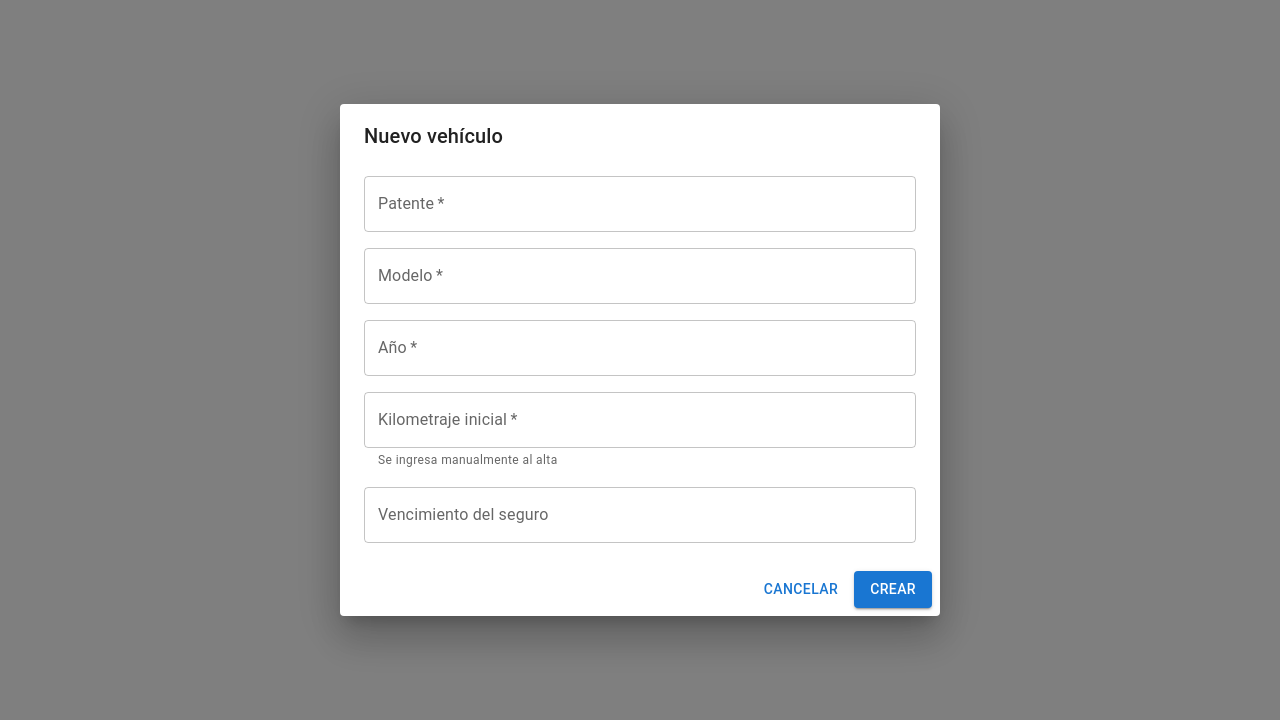
Test: VehicleFormDialog — app validation instead of the browser bubble › an empty form is not sent: the app says which field is missing
The width and height of the screenshot is (1280, 720).
Click the button "Crear": click(893, 589) [854,571,932,608]
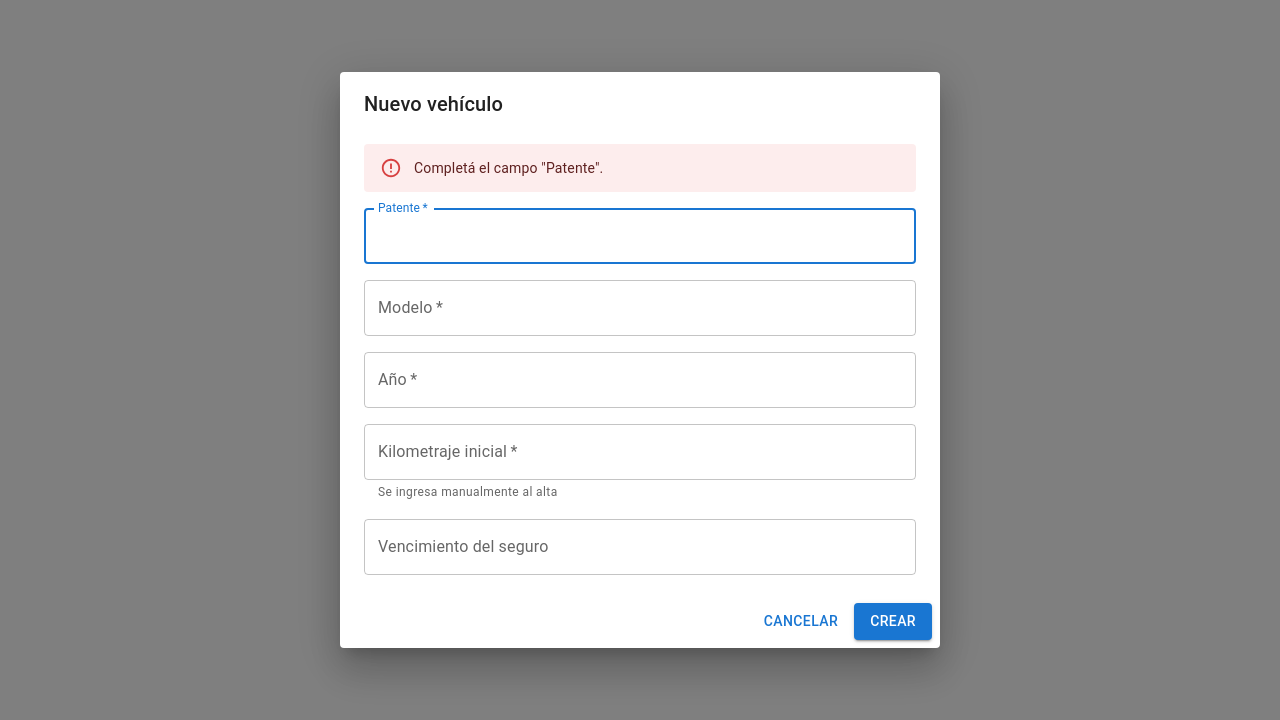
Expected: the message reads "Completá el campo \"Patente\".", [414,160,604,176]
